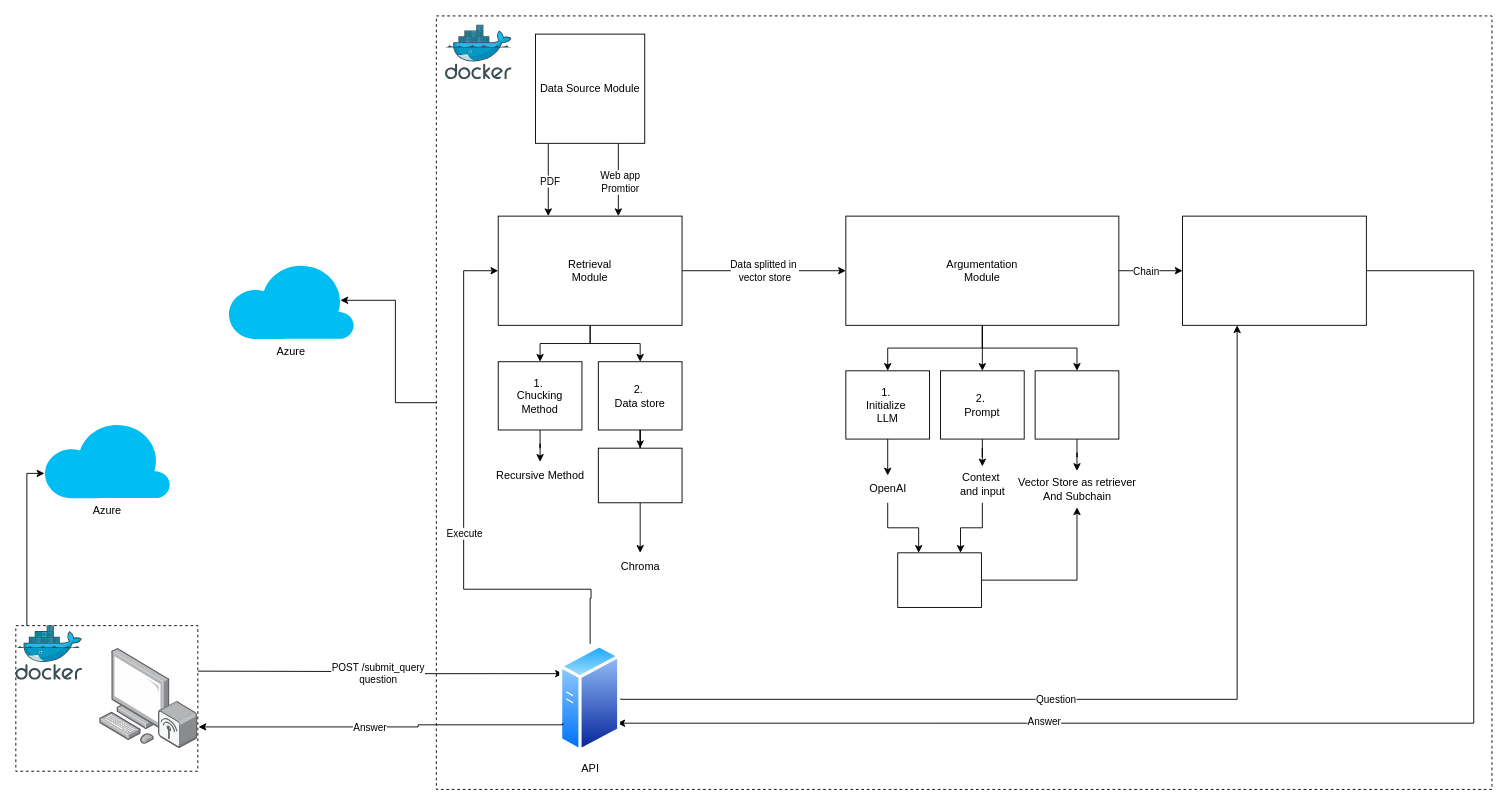
Some shapes in this 1509 by 805 pixel diagram are drawn without their labels. Here are the shapes that lost their labels. From the top down, the centre of each, then its label:
the point at 1274,270: Generation Module
the point at 1076,404: 3. Chain
the point at 639,475: Vector Store
the point at 939,579: Subchain
the point at 148,698: Angular APP
